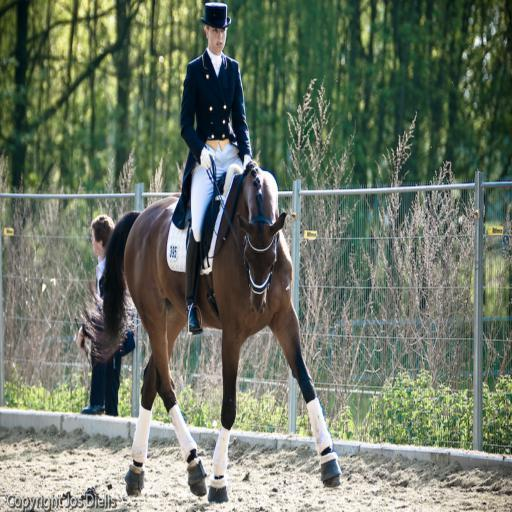horse: (76, 158, 344, 506)
